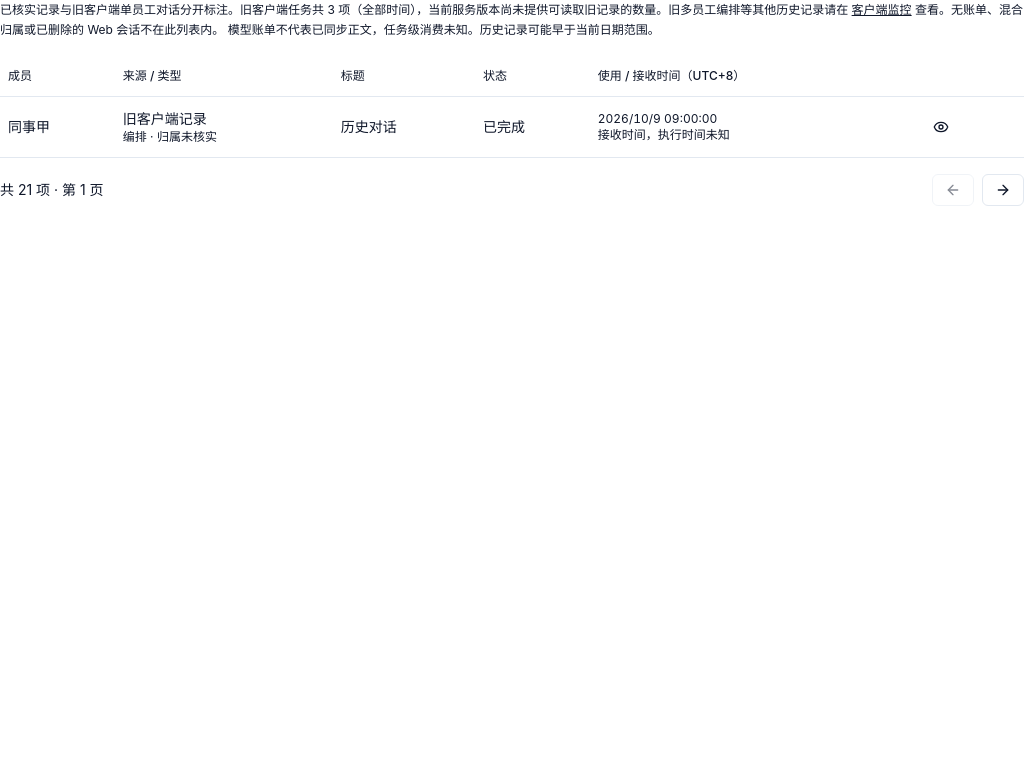
EmployeeUsageRecords › 旧记录正文只有一个运行批次，缺片和接收时间明确标注
The image size is (1024, 768).
Click the button named "查看 历史对话".
click(941, 127)  # box [921, 111, 961, 143]
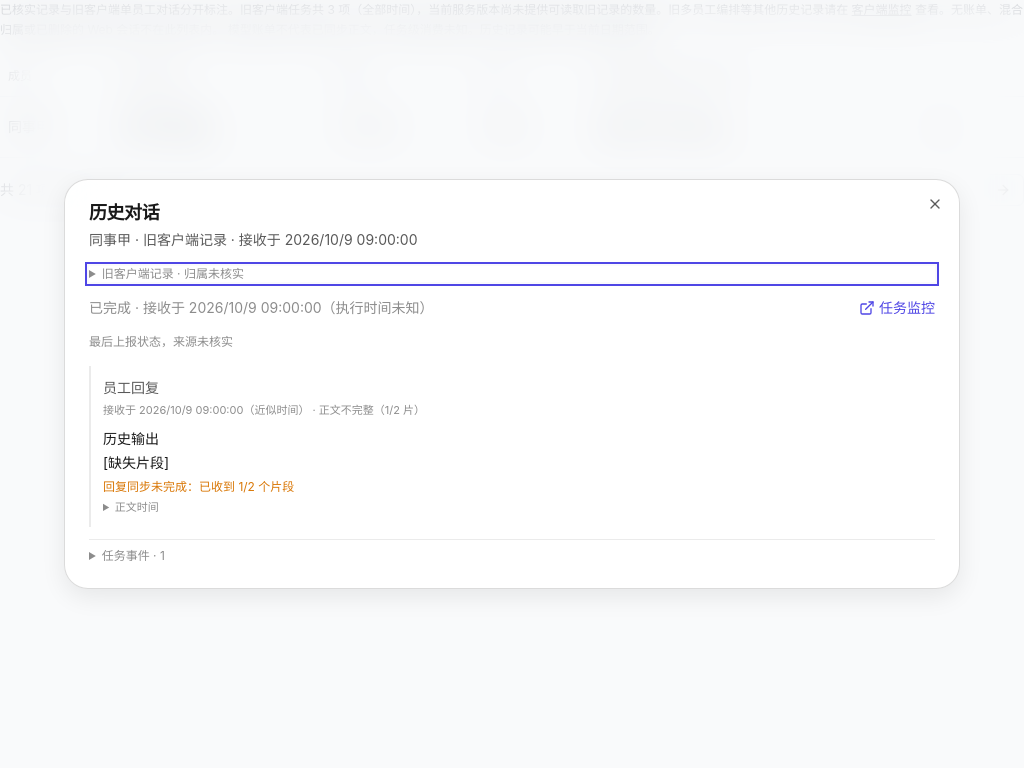
Expected: the text "历史输出 [缺失片段]" is shown, [103, 430, 169, 470]
Expected: the text "接收于 2026/10/9 09:00:00（近似时间） · 正文不完整（1/2 片）" is shown, [103, 403, 425, 417]
Expected: the text "已完成 · 接收于 2026/10/9 09:00:00（执行时间未知）" is shown, [89, 298, 434, 318]
